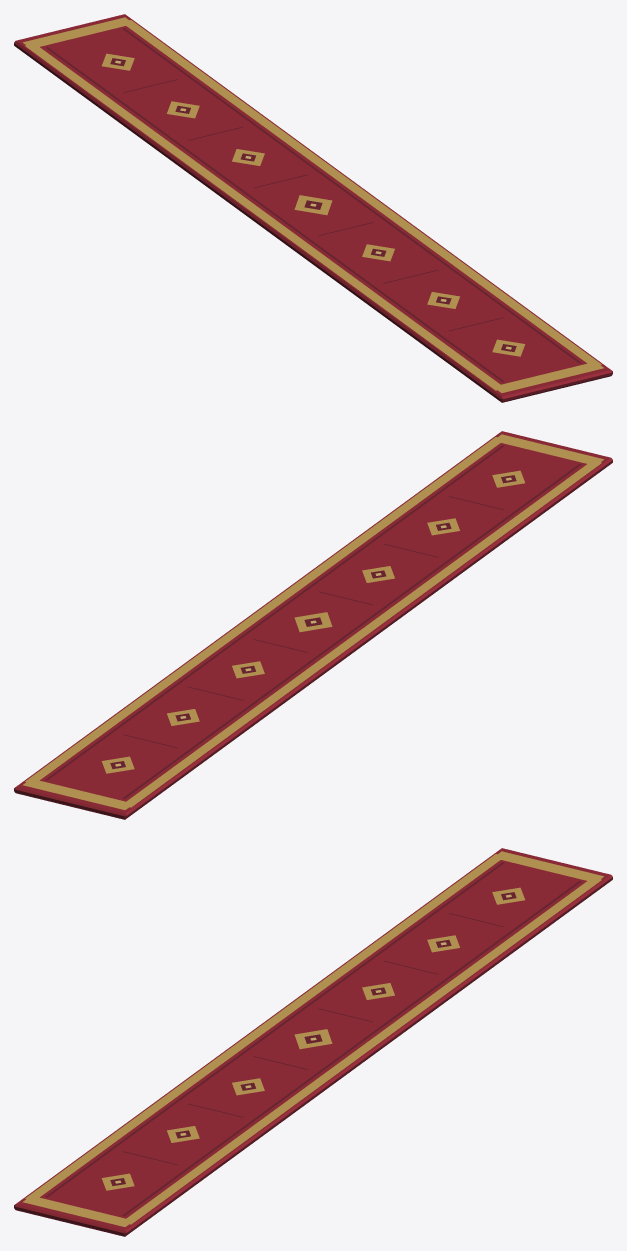
File: 0-20261016-1900-ev002-r01-lobby-redcarpet.fbx
The picture shows the model from 3 angles, top to bottom: view 1: azimuth 30°, elevation 25°; view 2: azimuth 150°, elevation 25°; view 3: azimuth 330°, elevation 25°; orthographic projection.
Parts seen in each view (by area): view 1: SW_Lobby_RedCarpet; view 2: SW_Lobby_RedCarpet; view 3: SW_Lobby_RedCarpet.
Boxes of the visible parts, x1,y1,x2,y2 form: SW_Lobby_RedCarpet: [14, 14, 612, 402]; SW_Lobby_RedCarpet: [14, 431, 612, 819]; SW_Lobby_RedCarpet: [14, 848, 612, 1236].
Bounding box in the file's own units: 160 × 8.85 × 1200.
